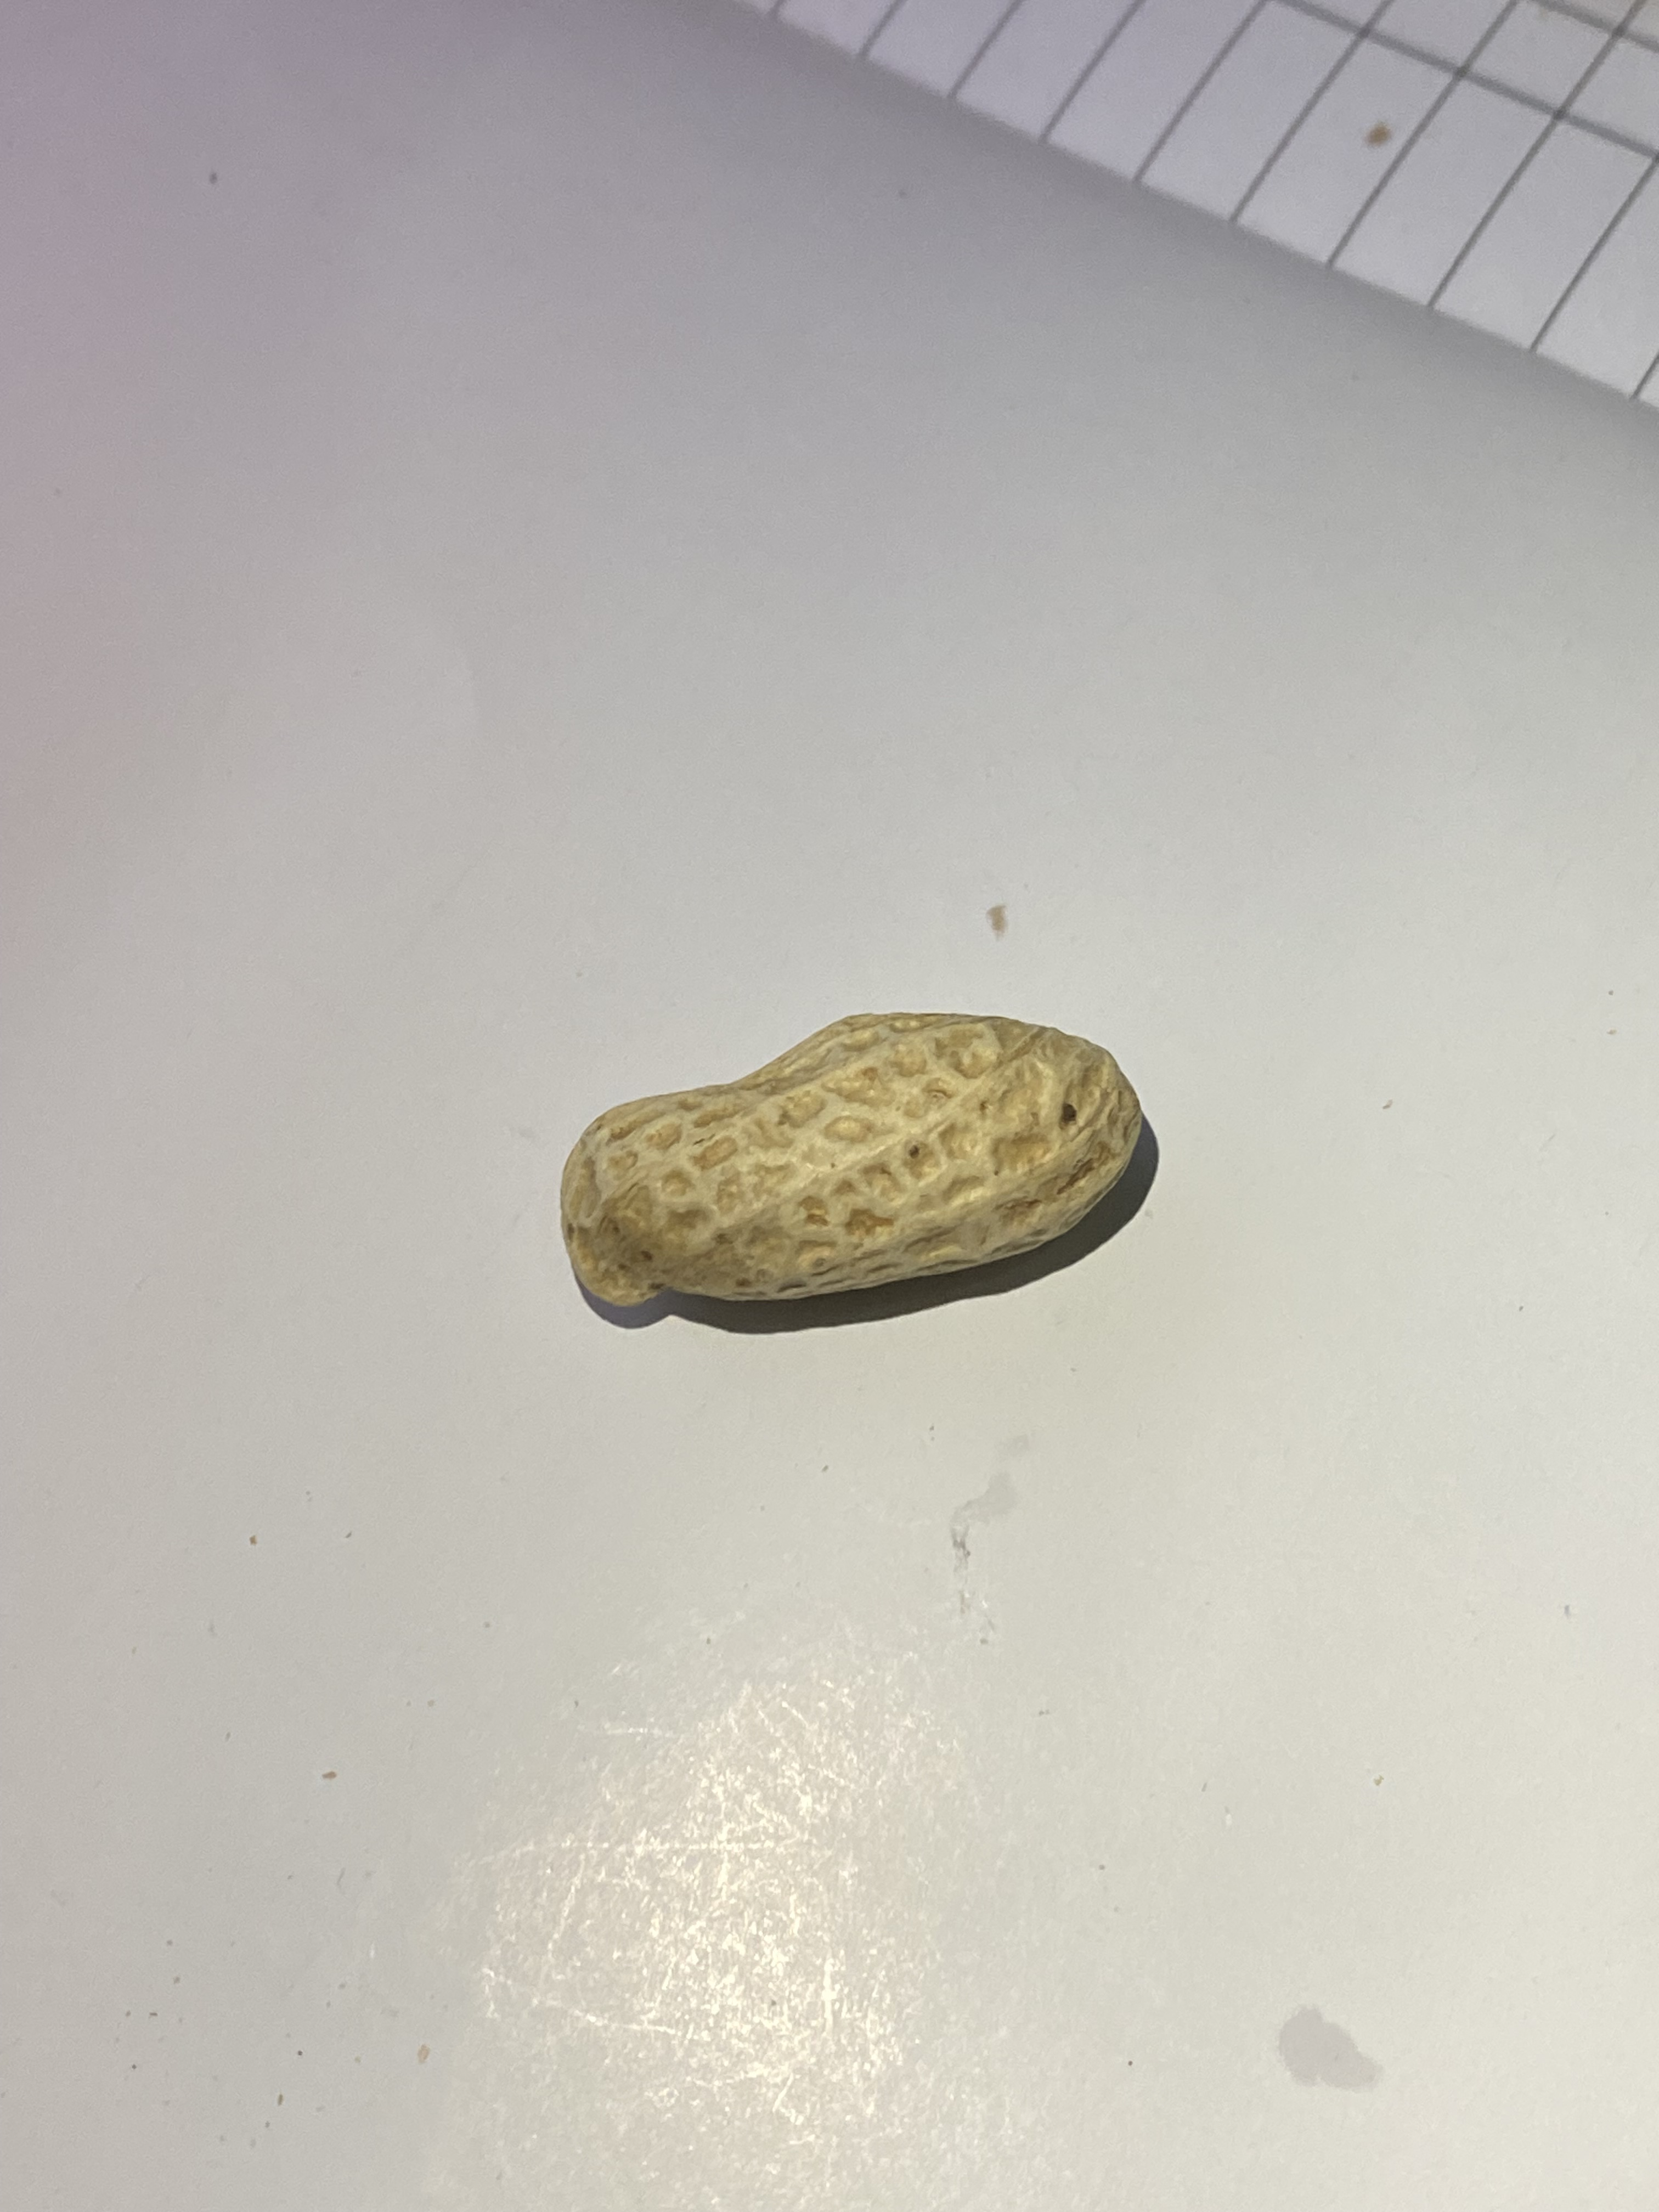kacang2: (554, 981, 1147, 1343)
